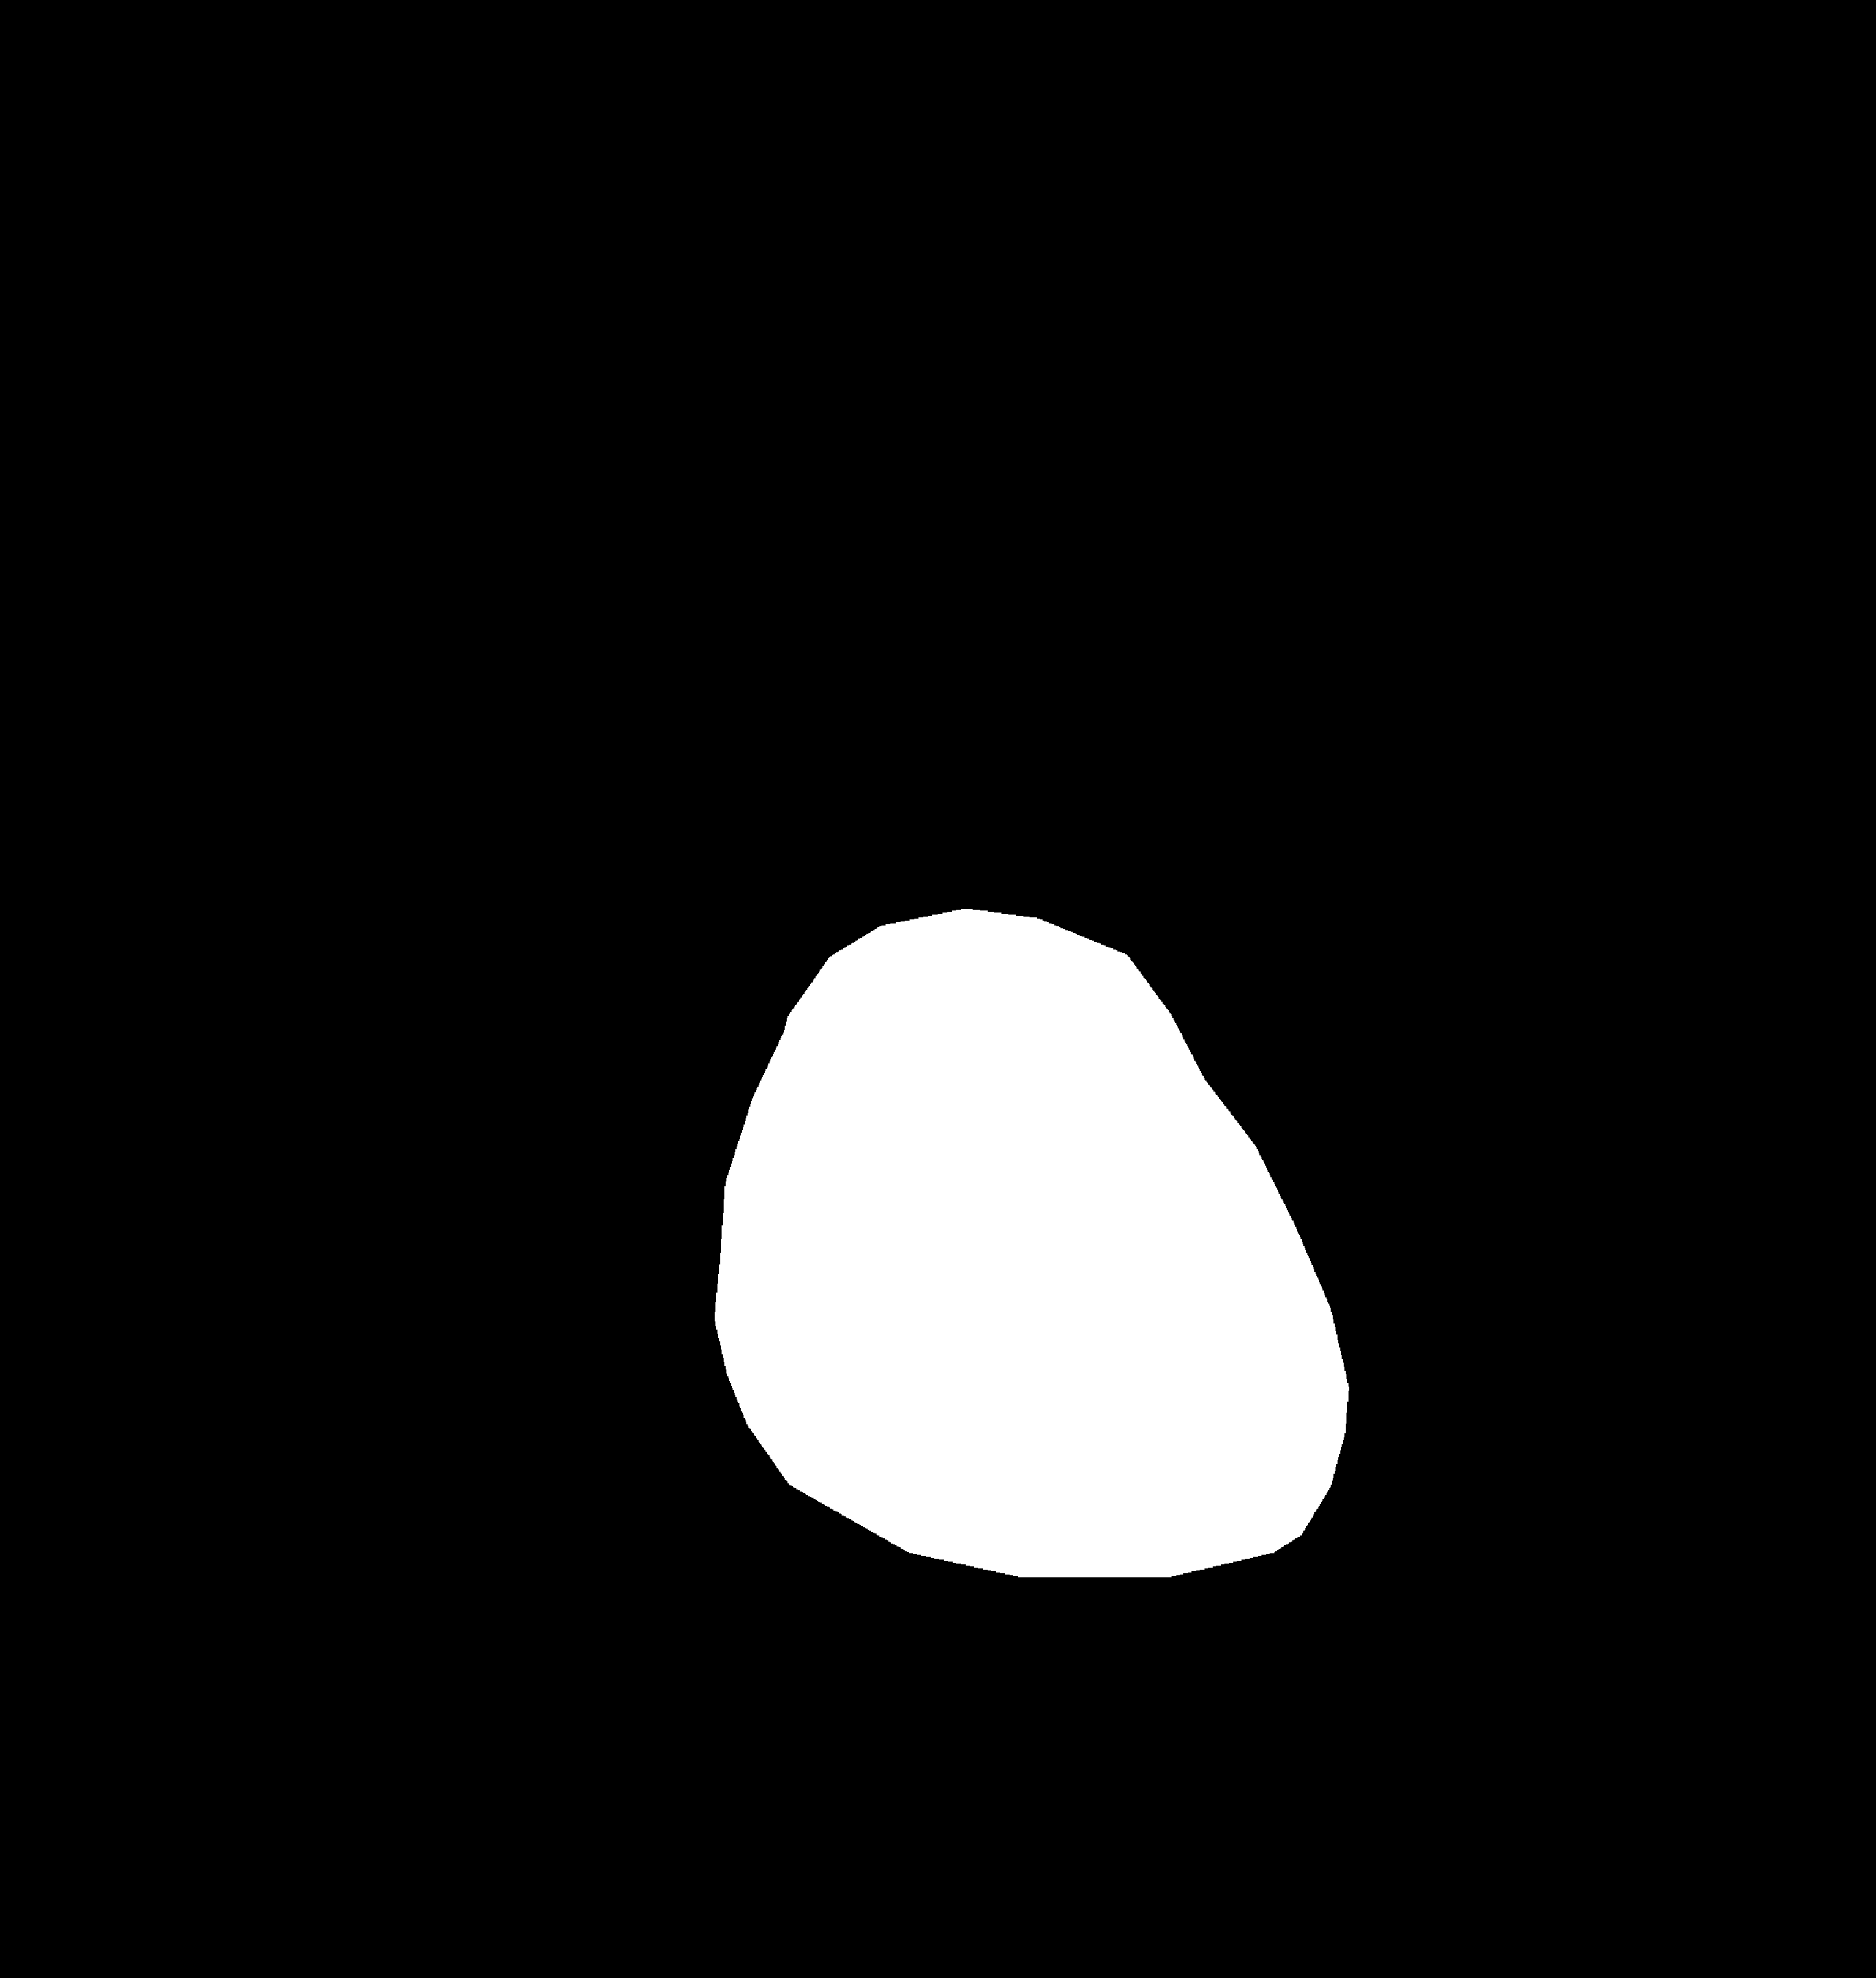heart: (718, 1028, 1352, 1627)
left_lung: (203, 250, 912, 1747)
right_lung: (1047, 231, 1687, 1744)
